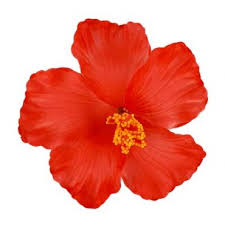hybiscus: (16, 19, 212, 209)
